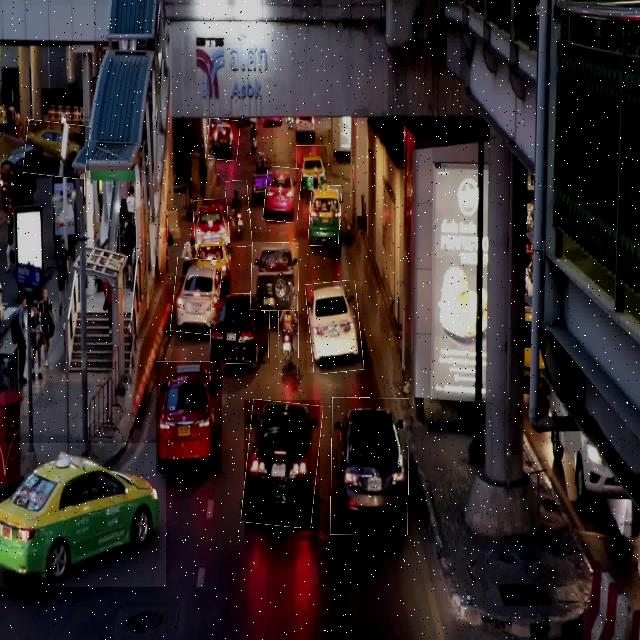Car: (0, 443, 166, 587), (331, 398, 408, 535), (244, 400, 320, 527), (156, 361, 222, 474), (307, 281, 362, 373), (210, 294, 270, 364), (172, 258, 221, 334), (25, 121, 89, 178), (265, 167, 301, 222), (309, 185, 341, 246), (194, 200, 228, 243), (296, 145, 327, 192), (206, 119, 239, 161)
Motorcycle: (279, 286, 299, 374), (227, 181, 251, 247)
Truck: (251, 242, 298, 311)
